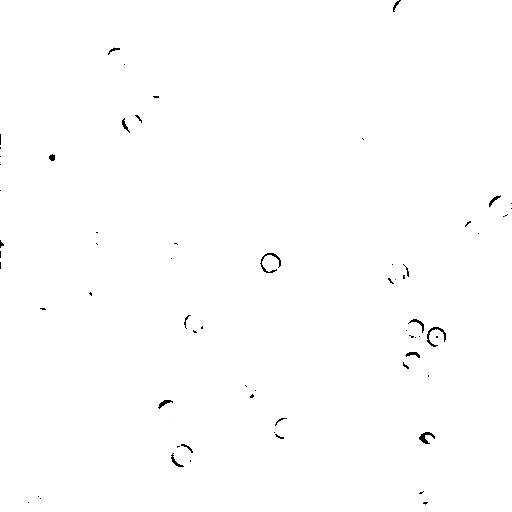micro-algae: (403, 478, 445, 512), (383, 86, 416, 127), (118, 282, 156, 312), (84, 220, 118, 252), (80, 271, 111, 301), (13, 490, 50, 512), (284, 356, 310, 387), (384, 259, 412, 287), (168, 442, 196, 469), (486, 193, 512, 222), (152, 397, 182, 422), (392, 0, 419, 26), (105, 44, 131, 70), (272, 415, 298, 440), (286, 23, 310, 50), (460, 218, 487, 241), (122, 111, 146, 136), (361, 15, 385, 40), (27, 305, 53, 328), (260, 250, 283, 275), (182, 312, 206, 335), (237, 381, 261, 403), (39, 146, 62, 168), (426, 326, 449, 348), (162, 240, 185, 261), (402, 349, 423, 372), (355, 121, 377, 142), (405, 317, 426, 339), (415, 372, 440, 388), (417, 430, 439, 446), (0, 238, 11, 268)
